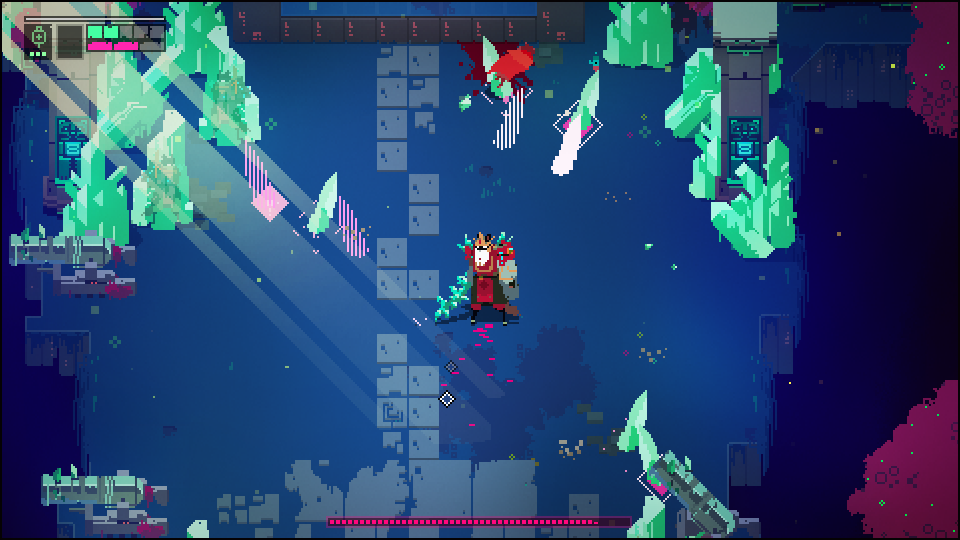hanged_crys: (237, 142, 288, 216), (568, 68, 611, 128), (339, 195, 377, 260), (622, 386, 649, 456), (307, 170, 335, 237)
hanged_man: (432, 227, 524, 335)
player: (483, 45, 535, 87)
